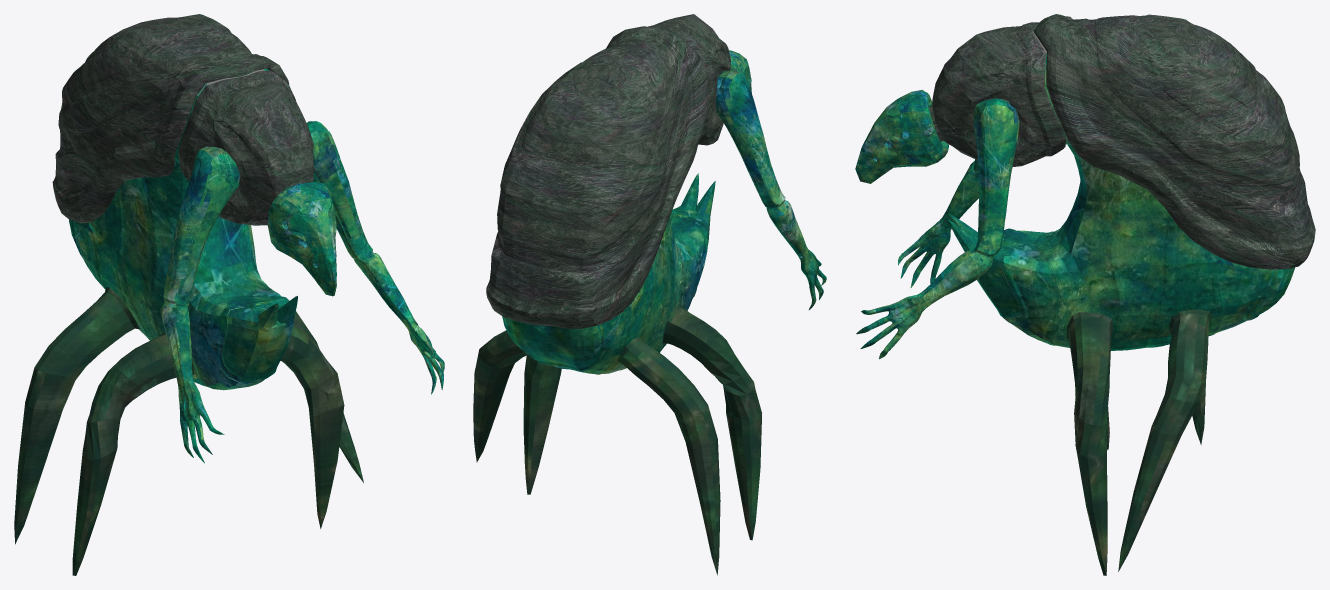
Rendered from Andar.0011.obj.
3 renders of one model, left to right at view 1: azimuth 30°, elevation 25°; view 2: azimuth 150°, elevation 25°; view 3: azimuth 270°, elevation 25°, orthographic. The views are drawn at different scales.
Bounding box in the file's own units: 2.44 × 3.92 × 3.29.
5 materials, 4 textured.
